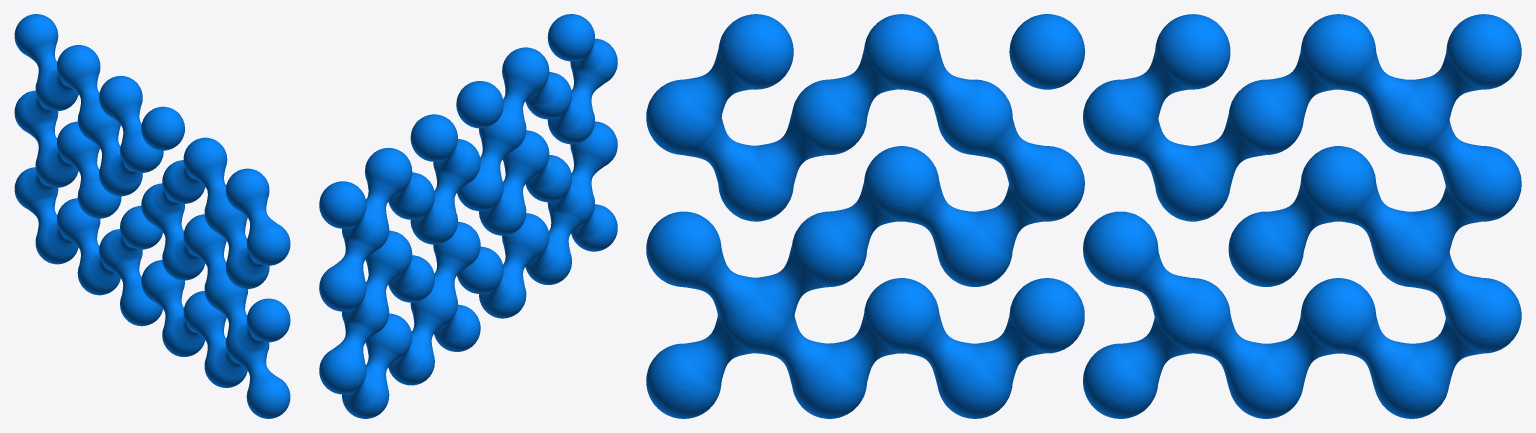
3 renders of one model, left to right at view 1: azimuth 30°, elevation 25°; view 2: azimuth 150°, elevation 25°; view 3: azimuth 270°, elevation 25°, orthographic. The views are drawn at different scales.
Visible parts, largest first — view 1: 3, 2, Sphere; view 2: 3, 2, Sphere; view 3: 3, 2, Sphere.
Part boxes in pixels (left/top/right/bottom): 3: left=14, top=14, right=163, bottom=326; 2: left=141, top=137, right=290, bottom=418; Sphere: left=141, top=106, right=184, bottom=150; 3: left=319, top=114, right=480, bottom=418; 2: left=457, top=14, right=617, bottom=318; Sphere: left=456, top=81, right=503, bottom=128; 3: left=1083, top=14, right=1521, bottom=418; 2: left=646, top=14, right=1084, bottom=418; Sphere: left=1009, top=14, right=1084, bottom=89.
Size of the model in its own units: 0.3428 by 1.99 by 3.96.
